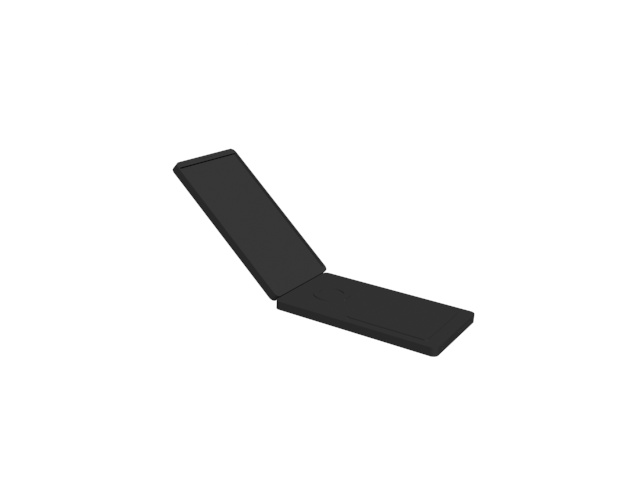mobile_phone: (169, 145, 480, 360)
